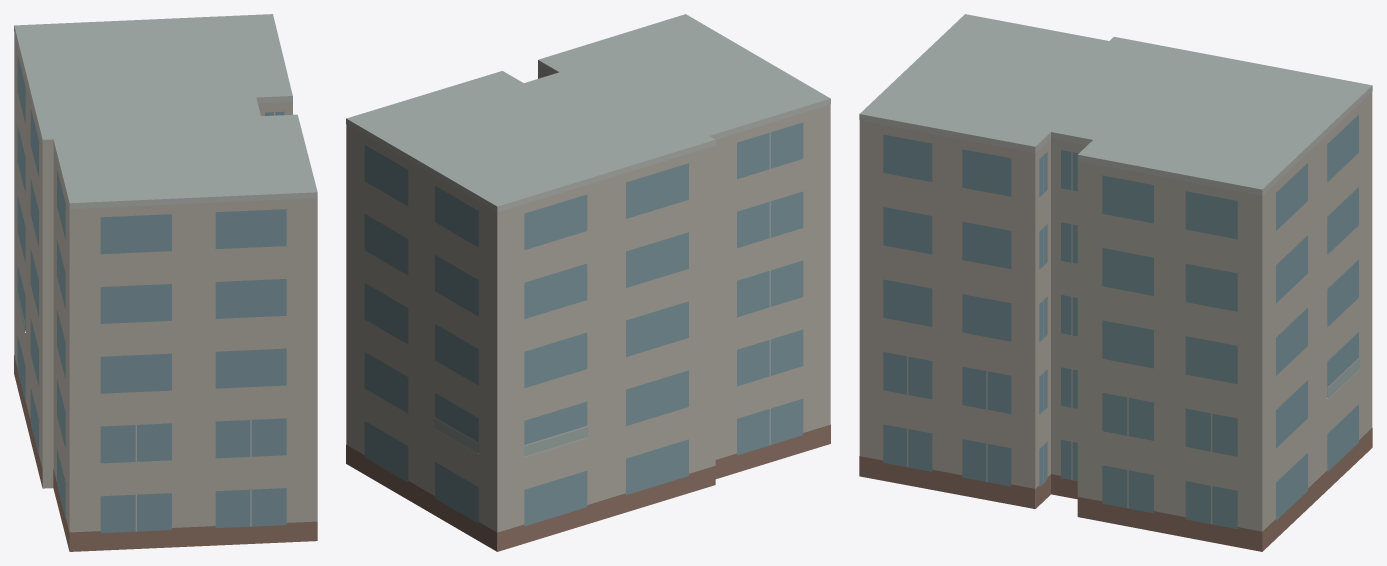
File: survey-upis-32963165.glb
The picture shows the model from 3 angles, left to right: view 1: azimuth 30°, elevation 25°; view 2: azimuth 150°, elevation 25°; view 3: azimuth 270°, elevation 25°; orthographic projection. The views are drawn at different scales.
Parts seen in each view (by area): view 1: survey-upis-32963165.tmp; view 2: survey-upis-32963165.tmp; view 3: survey-upis-32963165.tmp.
Part boxes in pixels (x1=…): survey-upis-32963165.tmp: x1=14, y1=14, x2=317, y2=551; survey-upis-32963165.tmp: x1=346, y1=14, x2=830, y2=551; survey-upis-32963165.tmp: x1=859, y1=14, x2=1372, y2=551.
Size of the model in its own units: 15.08 by 14.5 by 18.62.
